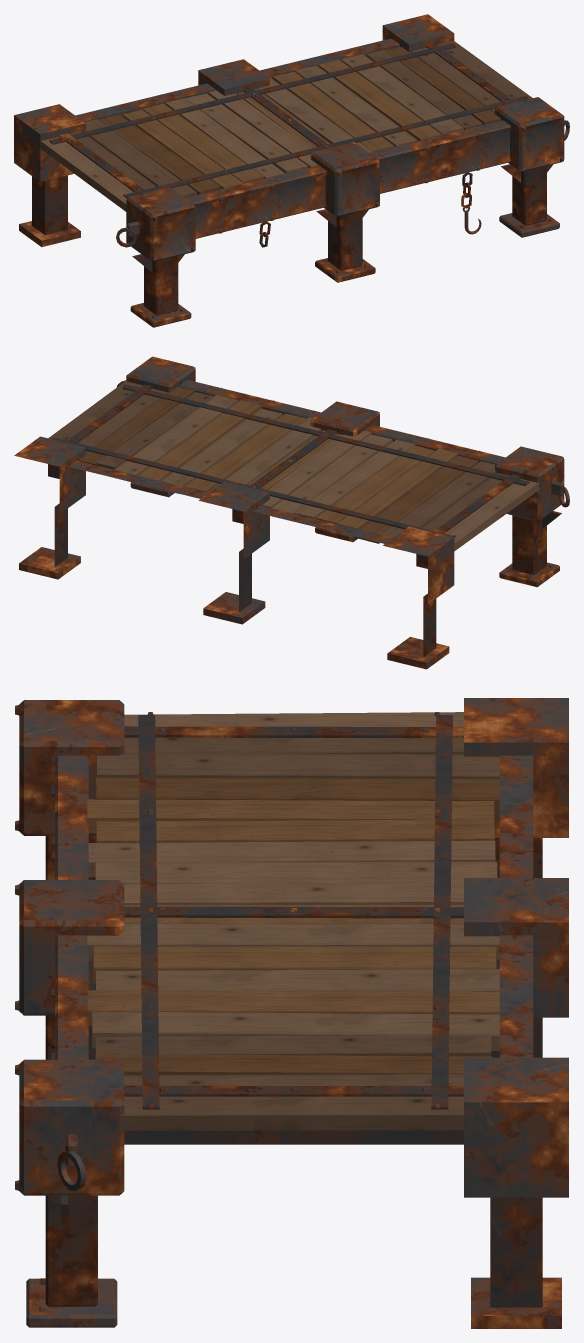
File: Platform_M.glb
3 renders of one model, top to bottom at view 1: azimuth 30°, elevation 25°; view 2: azimuth 150°, elevation 25°; view 3: azimuth 270°, elevation 25°, orthographic. The views are drawn at different scales.
Parts seen in each view (by area): view 1: Platform_M; view 2: Platform_M; view 3: Platform_M.
Boxes of the visible parts, x1,y1,x2,y2 form: Platform_M: (14, 14, 569, 327); Platform_M: (14, 356, 569, 669); Platform_M: (15, 698, 568, 1328).
Size of the model in its own units: 4.39 by 1.06 by 2.32.
4 materials, 4 textured.
